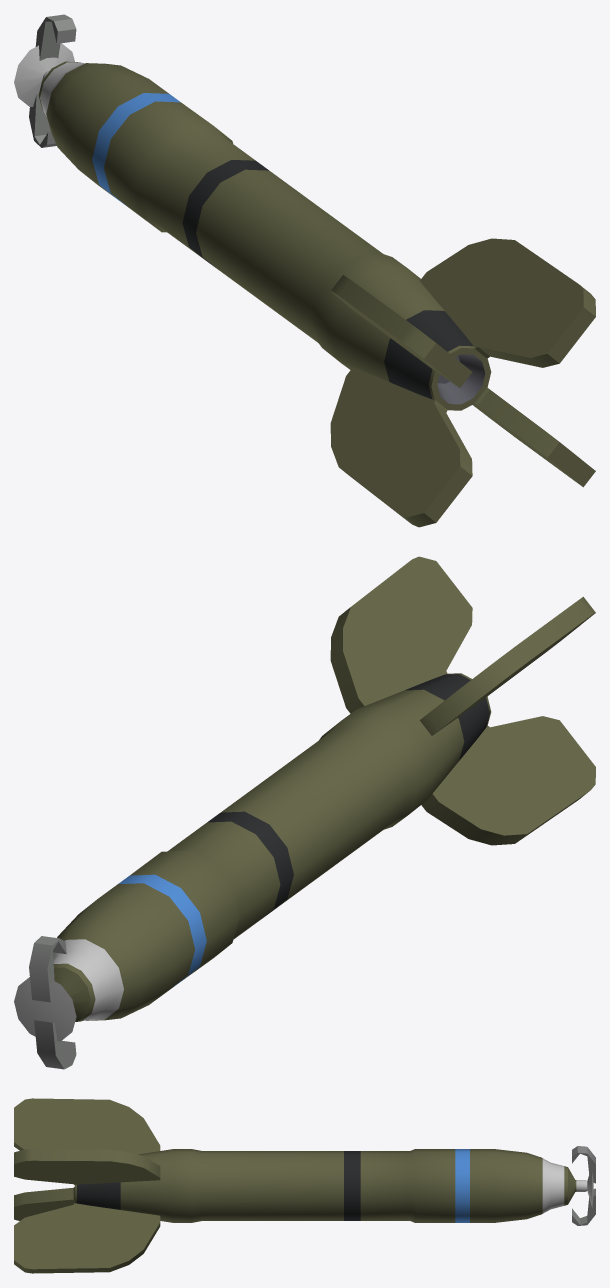
The picture shows the model from 3 angles, top to bottom: view 1: azimuth 30°, elevation 25°; view 2: azimuth 150°, elevation 25°; view 3: azimuth 270°, elevation 25°; orthographic projection. The views are drawn at different scales.
Parts seen in each view (by area): view 1: rs82; view 2: rs82; view 3: rs82.
Boxes of the visible parts, <box> form: rs82: <box>14,14,595,527</box>; rs82: <box>14,556,595,1069</box>; rs82: <box>14,1098,595,1273</box>.
Size of the model in its own units: 0.1536 by 0.1536 by 0.6507.
